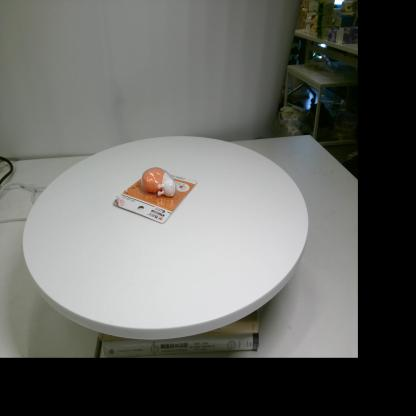Stationery: (113, 167, 198, 224)
